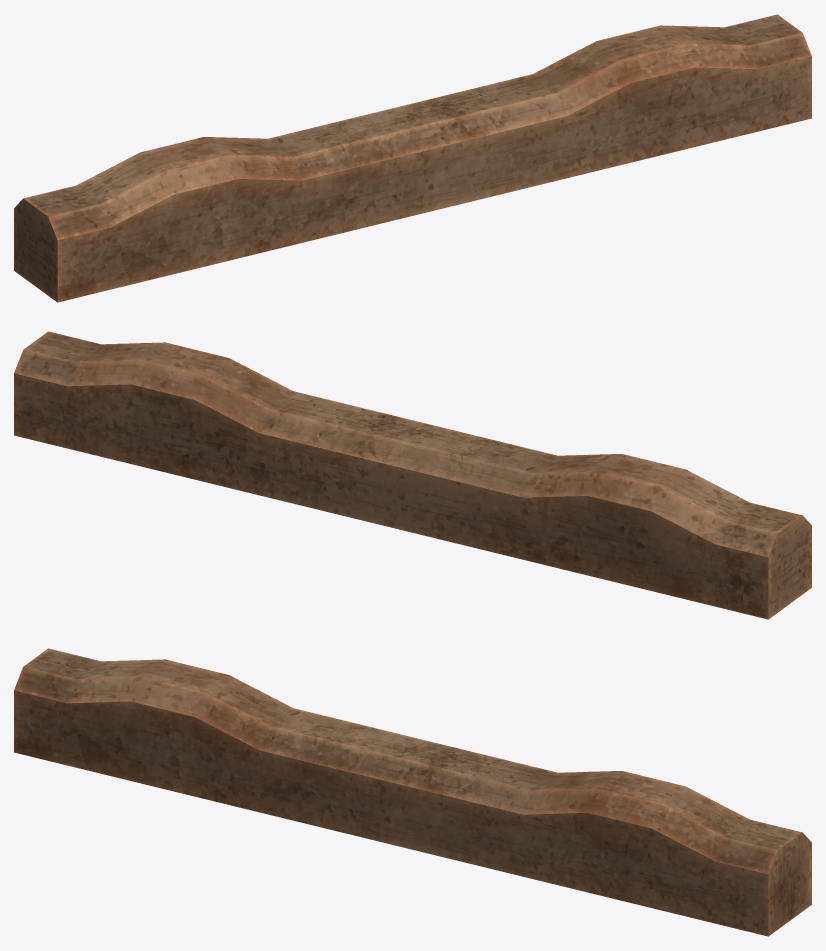
File: railsleeper.gltf
The picture shows the model from 3 angles, top to bottom: view 1: azimuth 30°, elevation 25°; view 2: azimuth 150°, elevation 25°; view 3: azimuth 330°, elevation 25°; orthographic projection.
Parts seen in each view (by area): view 1: Cube; view 2: Cube; view 3: Cube.
Boxes of the visible parts, x1,y1,x2,y2 form: Cube: (14, 14, 811, 302); Cube: (14, 331, 811, 619); Cube: (14, 648, 811, 936).
Bounding box in the file's own units: 1.5 × 0.1832 × 0.15.
1 material, 1 textured.
